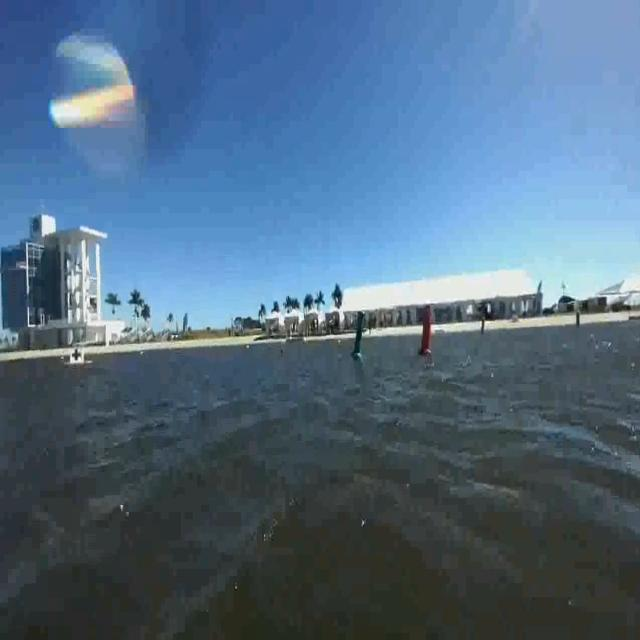green-column-buoy: (351, 310, 367, 360)
red-column-buoy: (417, 304, 433, 361)
